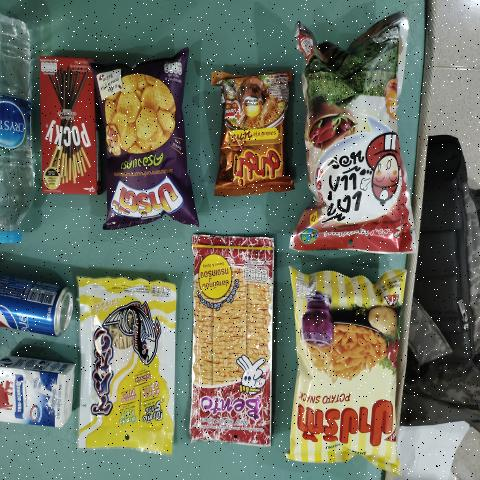bento_red: (193, 238, 269, 448)
crystal: (0, 17, 33, 250)
mama: (222, 72, 293, 193)
paprika: (296, 279, 395, 463)
party_purple: (105, 56, 192, 220)
pepsi_blue: (0, 263, 70, 341)
pokki: (41, 59, 96, 196)
taokaenoi: (299, 39, 410, 243)
taro_yellow: (79, 282, 173, 453)
thai_denmark: (0, 358, 73, 432)
